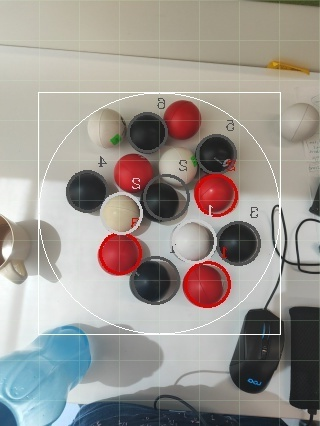Pelota blanca: (0, 214, 33, 286), (284, 217, 320, 275), (101, 190, 145, 235), (170, 220, 217, 262), (34, 217, 63, 283), (87, 105, 127, 150), (157, 145, 199, 184), (282, 100, 320, 142)
Pelota negra: (228, 315, 286, 395), (127, 254, 183, 307), (141, 172, 191, 227), (215, 220, 262, 267), (66, 169, 108, 214), (127, 110, 169, 152), (197, 132, 238, 174), (154, 393, 204, 425)
Pelota roja: (183, 260, 233, 310), (98, 230, 148, 278), (194, 172, 241, 219), (162, 97, 204, 142), (114, 153, 156, 195)
